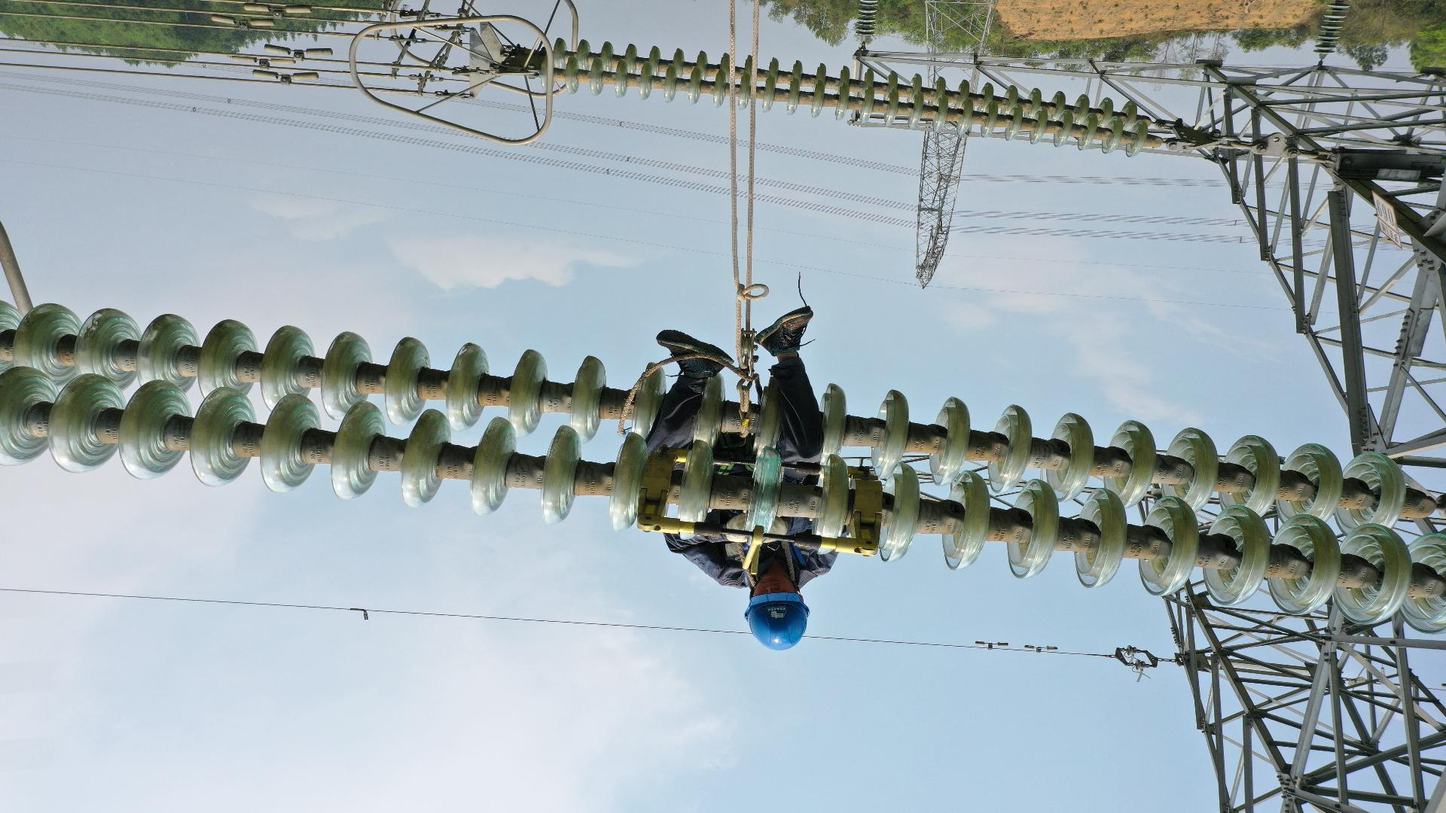insulator: (1, 292, 1446, 639), (543, 31, 1155, 160), (1310, 1, 1352, 57), (853, 1, 880, 39)
